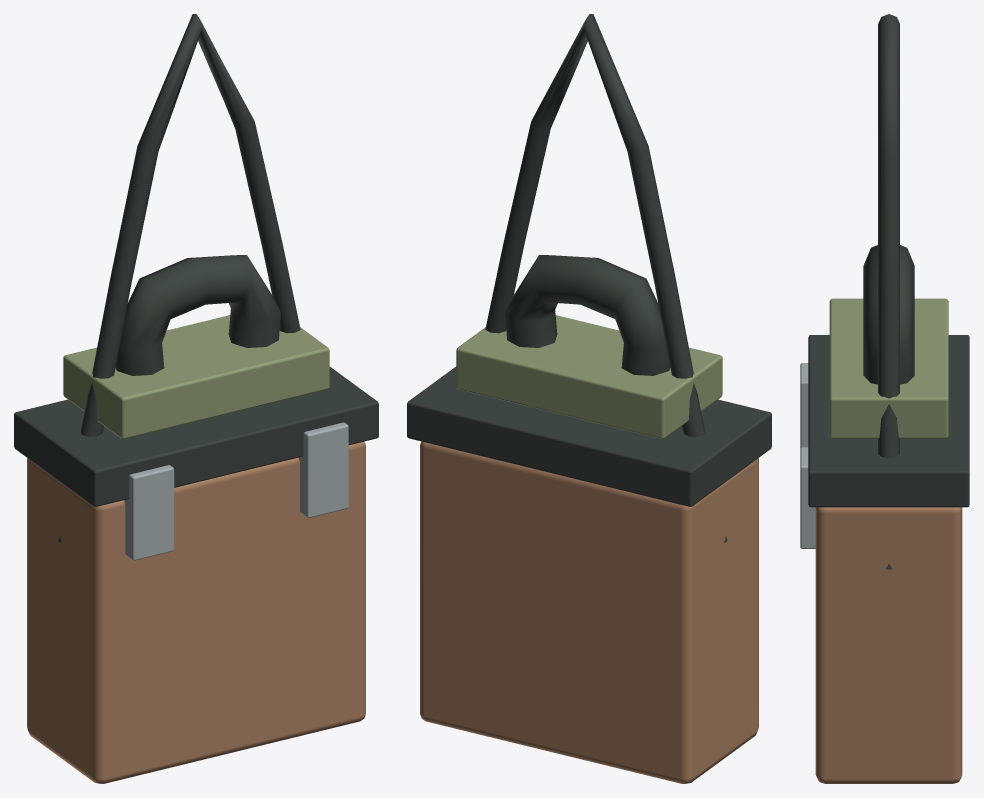
File: backpacks-and-expedition-storage-binocular-case-6026609e__21085.glb
3 views of the same model, side by side, from view 1: azimuth 30°, elevation 25°; view 2: azimuth 150°, elevation 25°; view 3: azimuth 270°, elevation 25° (orthographic).
Visible parts, largest first — view 1: binocular-case, lid/dark; view 2: binocular-case, lid/dark; view 3: binocular-case, lid/dark.
Boxes of the visible parts, box(x1,y1,x2,y2) form: binocular-case: box(27, 14, 365, 783); lid/dark: box(14, 366, 378, 506); binocular-case: box(420, 14, 758, 783); lid/dark: box(407, 366, 771, 506); binocular-case: box(800, 14, 962, 783); lid/dark: box(808, 335, 969, 507).
Size of the model in its own units: 0.178 by 0.426 by 0.0925.
